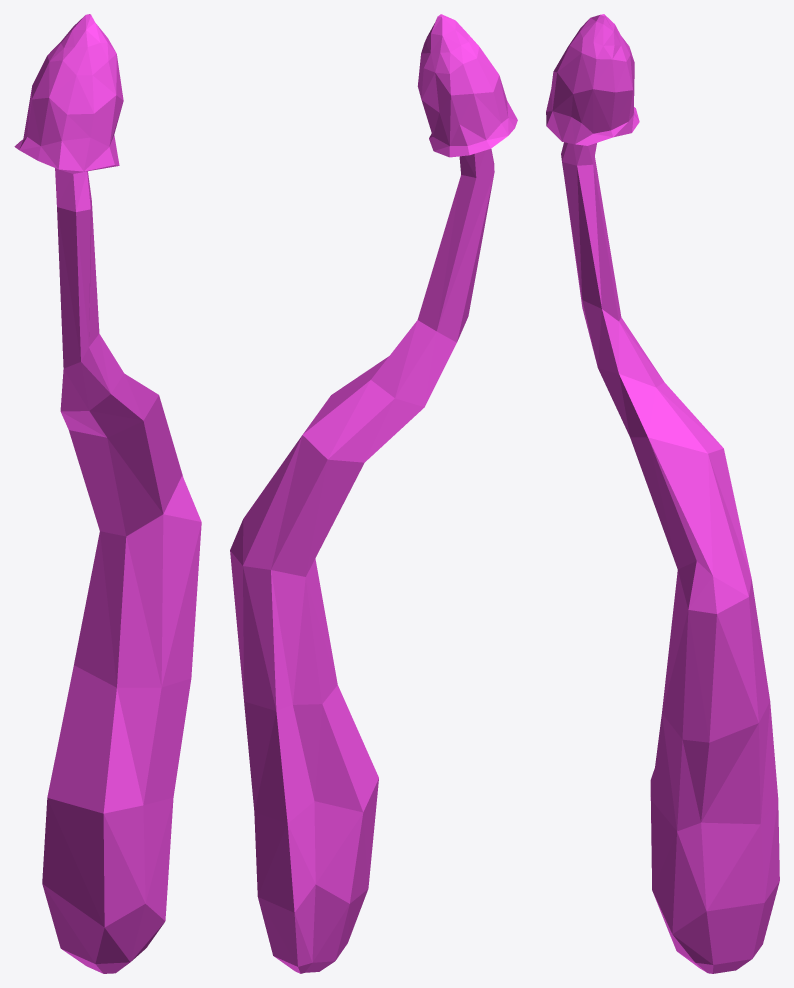
The model's file is SM_Mushroom_Slim_Big_C_Fantasy.fbx.
The picture shows the model from 3 angles, left to right: view 1: azimuth 30°, elevation 25°; view 2: azimuth 150°, elevation 25°; view 3: azimuth 270°, elevation 25°; orthographic projection. The views are drawn at different scales.
Parts seen in each view (by area): view 1: SM_Mushroom_Slim_Big_C_Fantasy; view 2: SM_Mushroom_Slim_Big_C_Fantasy; view 3: SM_Mushroom_Slim_Big_C_Fantasy.
Part boxes in pixels (<box>): SM_Mushroom_Slim_Big_C_Fantasy: <box>14,14,201,973</box>; SM_Mushroom_Slim_Big_C_Fantasy: <box>230,14,517,973</box>; SM_Mushroom_Slim_Big_C_Fantasy: <box>546,14,779,973</box>.
Size of the model in its own units: 1.36 by 5.51 by 1.27.
